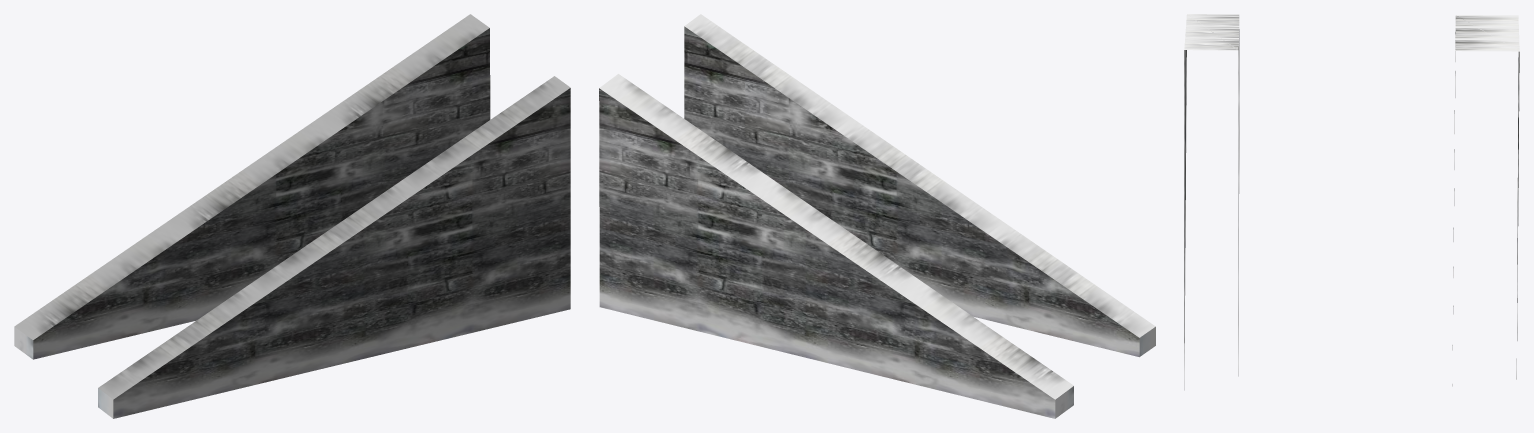
3 renders of one model, left to right at view 1: azimuth 30°, elevation 25°; view 2: azimuth 150°, elevation 25°; view 3: azimuth 270°, elevation 25°, orthographic. The views are drawn at different scales.
Visible parts, largest first — view 1: Object22; view 2: Object22; view 3: Object22.
Part boxes in pixels (x1=…): Object22: x1=14, y1=14, x2=570, y2=418; Object22: x1=599, y1=14, x2=1155, y2=418; Object22: x1=1184, y1=14, x2=1519, y2=390.
Bounding box in the file's own units: 131 × 60.75 × 50.17.
